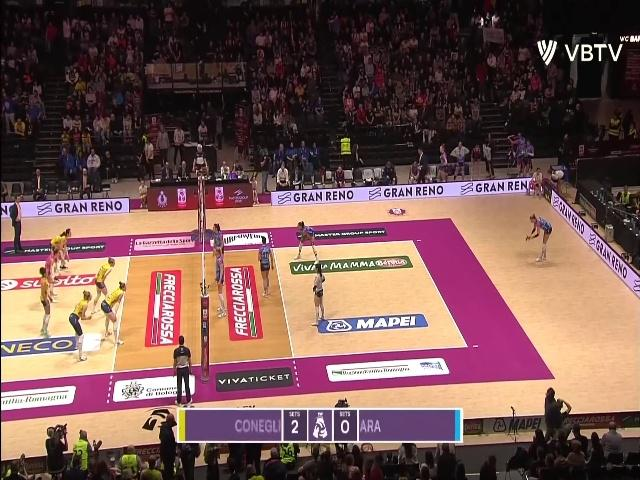volleyball court: (0, 239, 468, 383)
